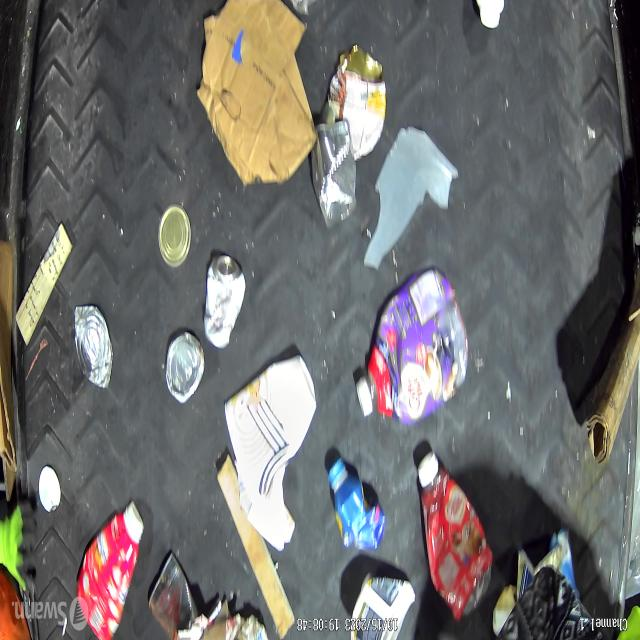can: (322, 44, 386, 163), (309, 118, 357, 234), (145, 549, 205, 640), (203, 250, 249, 354), (70, 302, 116, 398), (164, 330, 206, 410), (156, 204, 192, 274)
non_white_jug: (353, 270, 469, 428), (415, 453, 495, 619), (74, 500, 144, 640)
